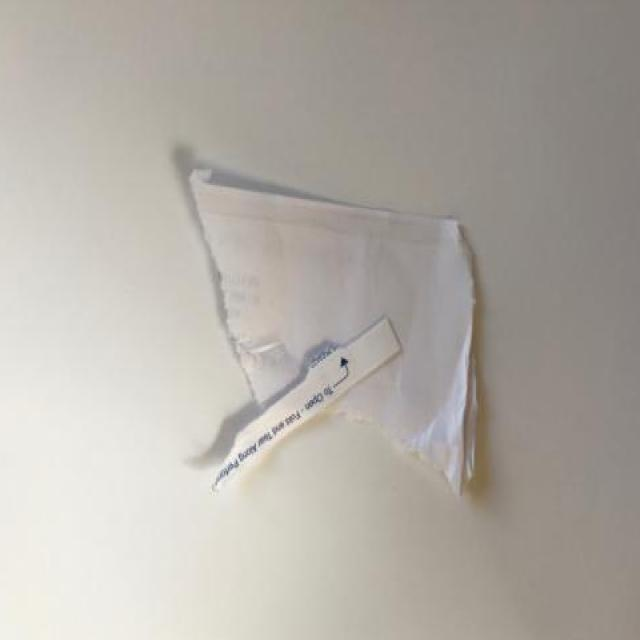kertas: (186, 166, 481, 503)
